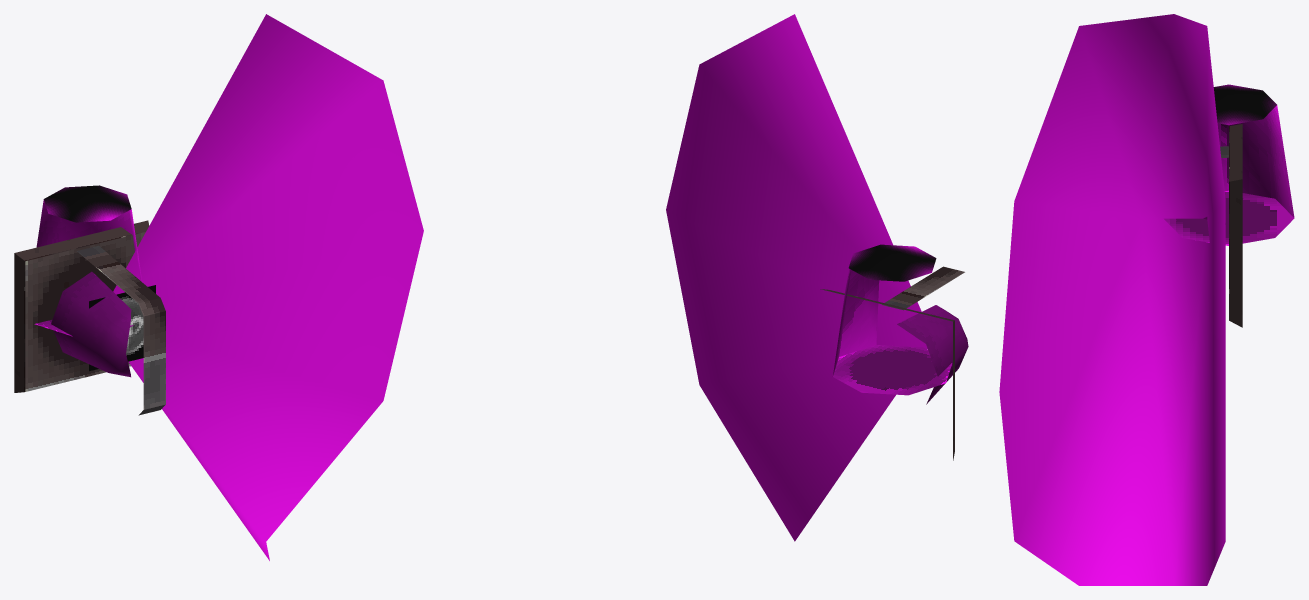
File: warning_light.glb
3 views of the same model, side by side, from view 1: azimuth 30°, elevation 25°; view 2: azimuth 150°, elevation 25°; view 3: azimuth 270°, elevation 25° (orthographic). The views are drawn at different scales.
Parts seen in each view (by area): view 1: mechanical.warning_light-MeshNodes["mesh_spotlight"], mechanical.warning_light-MeshNodes["base"], mechanical.warning_light-MeshNodes["light"], mechanical.warning_light-MeshNodes["base_2sided"], mechanical.warning_light-MeshNodes["shell_top"], mechanical.warning_light-MeshNodes["shell"], plane.plane_1unit-Mesh[0]; view 2: mechanical.warning_light-MeshNodes["mesh_spotlight"], mechanical.warning_light-MeshNodes["shell"], mechanical.warning_light-MeshNodes["light"], mechanical.warning_light-MeshNodes["shell_top"], mechanical.warning_light-MeshNodes["base_2sided"], mechanical.warning_light-MeshNodes["base"]; view 3: mechanical.warning_light-MeshNodes["mesh_spotlight"], mechanical.warning_light-MeshNodes["shell"], mechanical.warning_light-MeshNodes["base"], mechanical.warning_light-MeshNodes["shell_top"].
Part boxes in pixels (box(x1,y1,x2,y2)): mechanical.warning_light-MeshNodes["mesh_spotlight"]: box(113, 14, 423, 560); mechanical.warning_light-MeshNodes["base"]: box(14, 220, 149, 392); mechanical.warning_light-MeshNodes["light"]: box(51, 271, 131, 377); mechanical.warning_light-MeshNodes["base_2sided"]: box(77, 245, 165, 415); mechanical.warning_light-MeshNodes["shell_top"]: box(44, 185, 131, 222); mechanical.warning_light-MeshNodes["shell"]: box(34, 199, 142, 336); plane.plane_1unit-Mesh[0]: box(89, 285, 155, 371); mechanical.warning_light-MeshNodes["mesh_spotlight"]: box(666, 14, 927, 541); mechanical.warning_light-MeshNodes["shell"]: box(833, 268, 951, 395); mechanical.warning_light-MeshNodes["light"]: box(897, 305, 968, 404); mechanical.warning_light-MeshNodes["shell_top"]: box(848, 244, 936, 281); mechanical.warning_light-MeshNodes["base_2sided"]: box(881, 266, 964, 310); mechanical.warning_light-MeshNodes["base"]: box(820, 289, 954, 460); mechanical.warning_light-MeshNodes["mesh_spotlight"]: box(999, 14, 1225, 585); mechanical.warning_light-MeshNodes["shell"]: box(1164, 105, 1294, 245); mechanical.warning_light-MeshNodes["base"]: box(1229, 124, 1242, 327); mechanical.warning_light-MeshNodes["shell_top"]: box(1213, 84, 1276, 125).
Size of the model in its own units: 1.8 by 2.31 by 1.08.
Materials: 4 (4 with a texture image).
